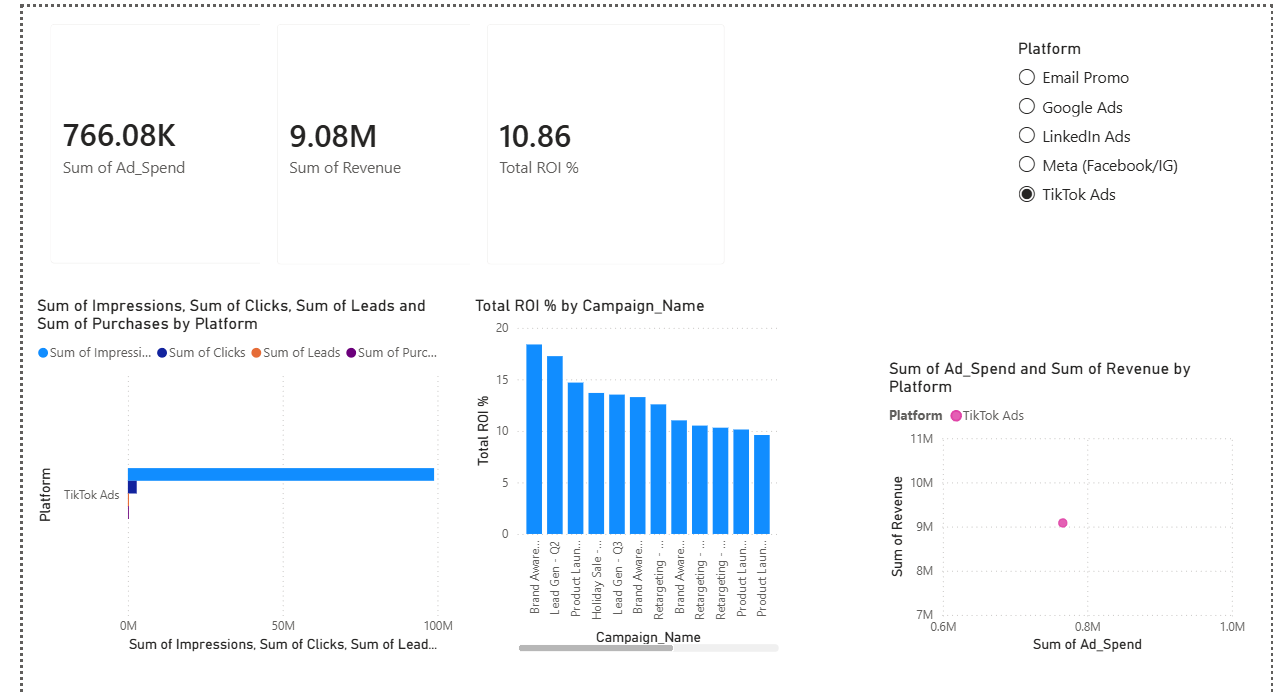

The page's visual inventory and layout, read from the dashboard file:
{"tool":"powerbi","page":{"name":"Page 1","canvas":[1280,720],"ordinal":0},"visuals":[{"type":"cardVisual","fields":{"Data":["Sum(marketing_campaign_data.Ad_Spend)"]},"box":[10,0,280,280],"z":0},{"type":"cardVisual","fields":{"Data":["Sum(marketing_campaign_data.Revenue)"]},"box":[243.8,0,279.7,281.6],"z":1},{"type":"cardVisual","fields":{"Data":["marketing_campaign_data.Total ROI %"]},"box":[458.5,0,278.5,281.5],"z":2},{"type":"clusteredBarChart","fields":{"Category":["marketing_campaign_data.Platform"],"Y":["Sum(marketing_campaign_data.Impressions)","Sum(marketing_campaign_data.Clicks)","Sum(marketing_campaign_data.Leads)","Sum(marketing_campaign_data.Purchases)"]},"box":[9.4,294.8,436.5,370.4],"z":3},{"type":"clusteredColumnChart","fields":{"Category":["marketing_campaign_data.Campaign_Name"],"Y":["marketing_campaign_data.Total ROI %"]},"box":[458.5,295.4,321.5,370.8],"z":4},{"type":"scatterChart","fields":{"X":["Sum(marketing_campaign_data.Ad_Spend)"],"Y":["Sum(marketing_campaign_data.Revenue)"],"Series":["marketing_campaign_data.Platform"]},"box":[883.1,360,375.4,306.2],"z":5},{"type":"listSlicer","fields":{"Values":["marketing_campaign_data.Platform"]},"box":[1015.4,32.3,229.2,280],"z":6}]}

Visuals, with their boxes on the page's 1280x720 design canvas (x1, y1, x2, y2). These are canvas units, not pixel positions in the 1276x694 screenshot, which may show the page scaled, cropped or inside an application window:
cardVisual - Sum(marketing_campaign_data.Ad_Spend): [x1=10, y1=0, x2=290, y2=280]
cardVisual - Sum(marketing_campaign_data.Revenue): [x1=244, y1=0, x2=524, y2=282]
cardVisual - marketing_campaign_data.Total ROI %: [x1=458, y1=0, x2=737, y2=282]
clusteredBarChart - marketing_campaign_data.Platform x Sum(marketing_campaign_data.Impressions): [x1=9, y1=295, x2=446, y2=665]
clusteredColumnChart - marketing_campaign_data.Campaign_Name x marketing_campaign_data.Total ROI %: [x1=458, y1=295, x2=780, y2=666]
scatterChart - Sum(marketing_campaign_data.Ad_Spend) x Sum(marketing_campaign_data.Revenue): [x1=883, y1=360, x2=1258, y2=666]
listSlicer - marketing_campaign_data.Platform: [x1=1015, y1=32, x2=1245, y2=312]
